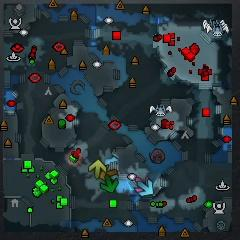x1: (135, 177, 150, 192)
x2: (89, 159, 106, 178)
x3: (138, 180, 154, 196)
x4: (100, 174, 119, 193)
x5: (99, 165, 117, 180)
